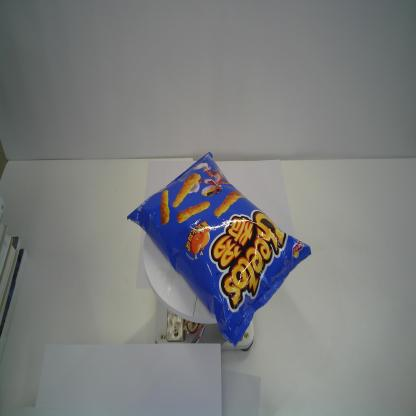Puffed Food: (126, 151, 314, 350)
